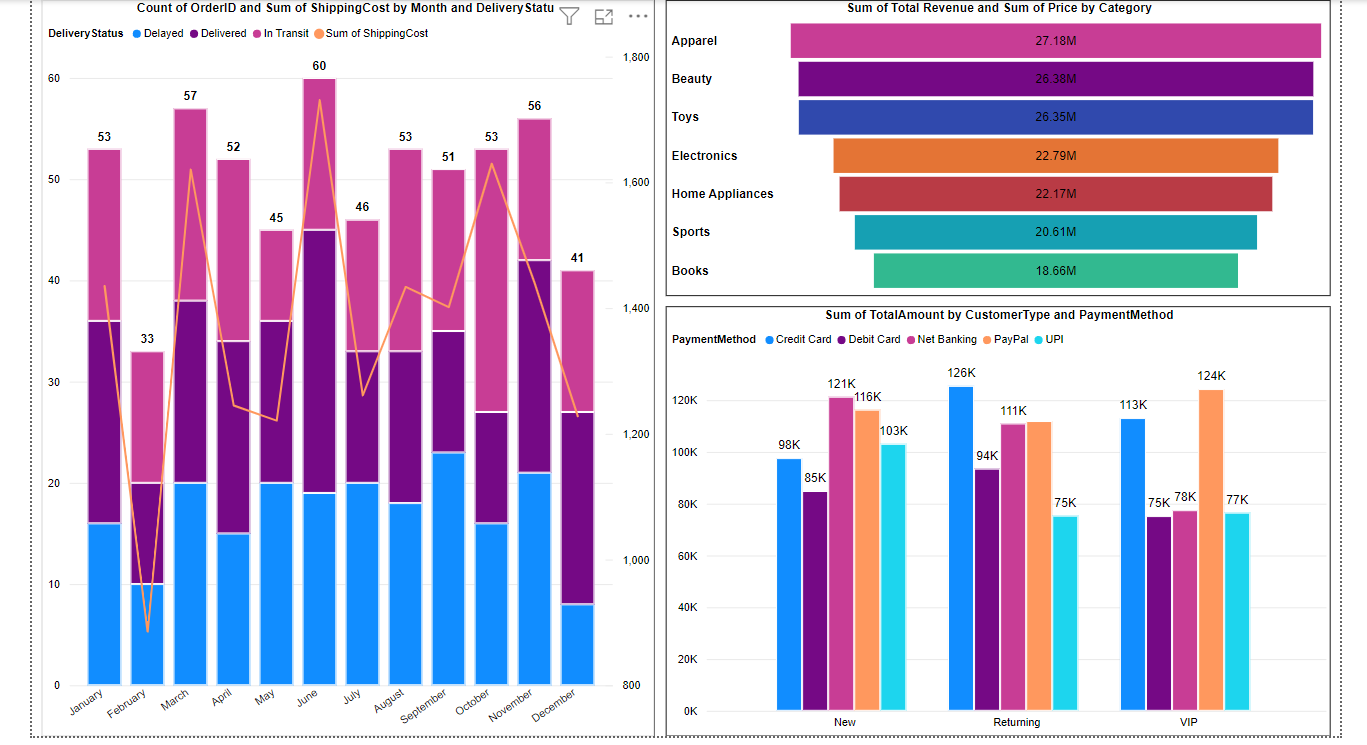

The page's visual inventory and layout, read from the dashboard file:
{"tool":"powerbi","page":{"name":"Page 2","canvas":[1280,720],"ordinal":1},"visuals":[{"type":"lineStackedColumnComboChart","fields":{"Category":["ecommerce_data_shipping.ShippingDate.Variation.Date Hierarchy.Month"],"Y2":["Sum(ecommerce_data_shipping.ShippingCost)"],"Series":["ecommerce_data_shipping.DeliveryStatus"],"Y":["CountNonNull(ecommerce_data_shipping.OrderID)"]},"box":[9.8,0,599.2,720.2],"z":0},{"type":"funnel","fields":{"Y":["Sum(ecommerce_data_products.Total Revenue)"],"Category":["ecommerce_data_products.Category"]},"box":[620,0,650.5,289.8],"z":1000},{"type":"clusteredColumnChart","fields":{"Category":["ecommerce_data_customers.CustomerType"],"Y":["Sum(ecommerce_data_orders.TotalAmount)"],"Series":["ecommerce_data_orders.PaymentMethod"]},"box":[620,299.6,650.5,420.7],"z":5000}]}

Visuals, with their boxes on the page's 1280x720 design canvas (x1, y1, x2, y2). These are canvas units, not pixel positions in the 1367x745 screenshot, which may show the page scaled, cropped or inside an application window:
lineStackedColumnComboChart - ecommerce_data_shipping.ShippingDate.Variation.Date Hierarchy.Month x Sum(ecommerce_data_shipping.ShippingCost): [10,0,609,720]
funnel - Sum(ecommerce_data_products.Total Revenue) x ecommerce_data_products.Category: [620,0,1270,290]
clusteredColumnChart - ecommerce_data_customers.CustomerType x Sum(ecommerce_data_orders.TotalAmount): [620,300,1270,720]
